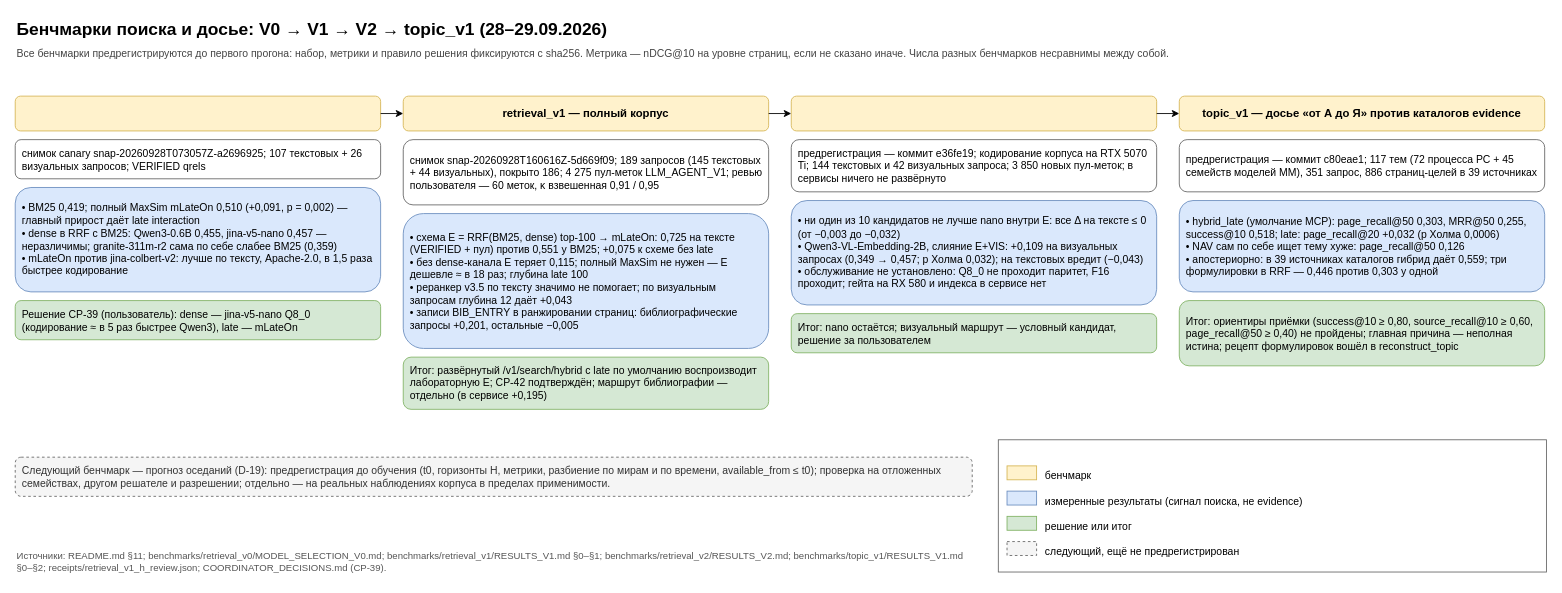
The diagram is 1562 pixels wide and 593 high, and some of its shapes have lost their labels. The shapes that lost their labels are listed below. From the top down, each one's box as (x1, y1, x2, y2) in pixels, then its label:
(14, 95, 381, 131): retrieval_v0 — выбор моделей на canary
(790, 95, 1157, 131): retrieval_v2 — 10 dense-моделей и изображения страниц
(997, 439, 1546, 572): Легенда
